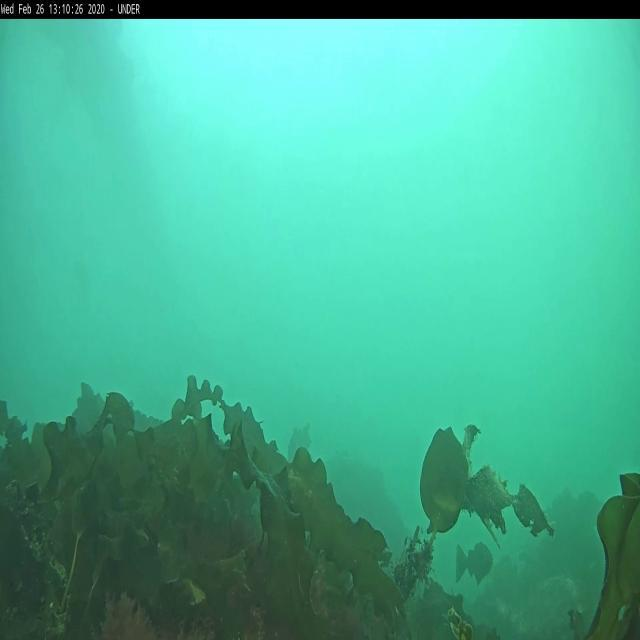fish: (454, 544, 492, 590)
